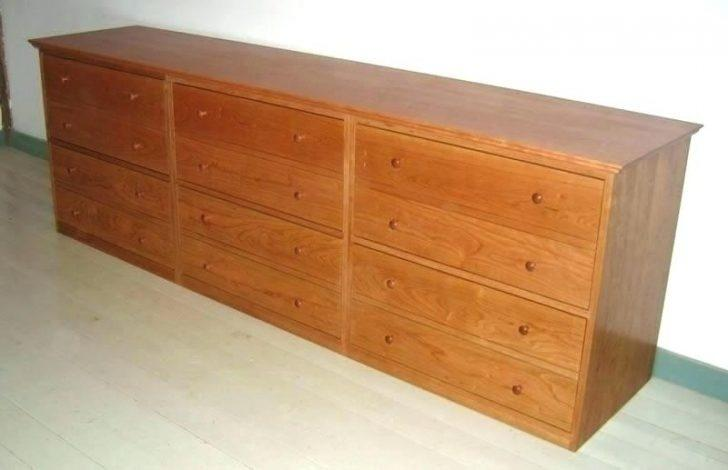cabinet_door: (360, 148, 599, 215), (359, 270, 587, 332), (361, 209, 594, 268), (382, 324, 576, 394), (185, 248, 338, 308), (178, 103, 340, 155), (183, 207, 337, 261), (182, 157, 341, 207), (45, 67, 161, 114), (58, 202, 171, 250), (51, 114, 161, 158), (56, 158, 167, 201)
handle: (376, 273, 405, 295), (288, 128, 316, 149), (523, 189, 549, 211), (383, 153, 409, 174), (382, 213, 406, 235), (191, 106, 216, 127), (192, 159, 218, 179), (504, 380, 530, 400), (513, 320, 536, 341), (126, 135, 150, 155), (285, 186, 311, 204), (378, 330, 402, 349), (121, 89, 146, 107), (133, 231, 156, 250), (290, 295, 312, 314), (195, 258, 218, 276), (66, 205, 87, 224), (59, 118, 79, 137), (290, 244, 313, 260), (64, 162, 84, 180), (56, 72, 77, 89), (520, 258, 540, 275), (194, 211, 214, 226)
